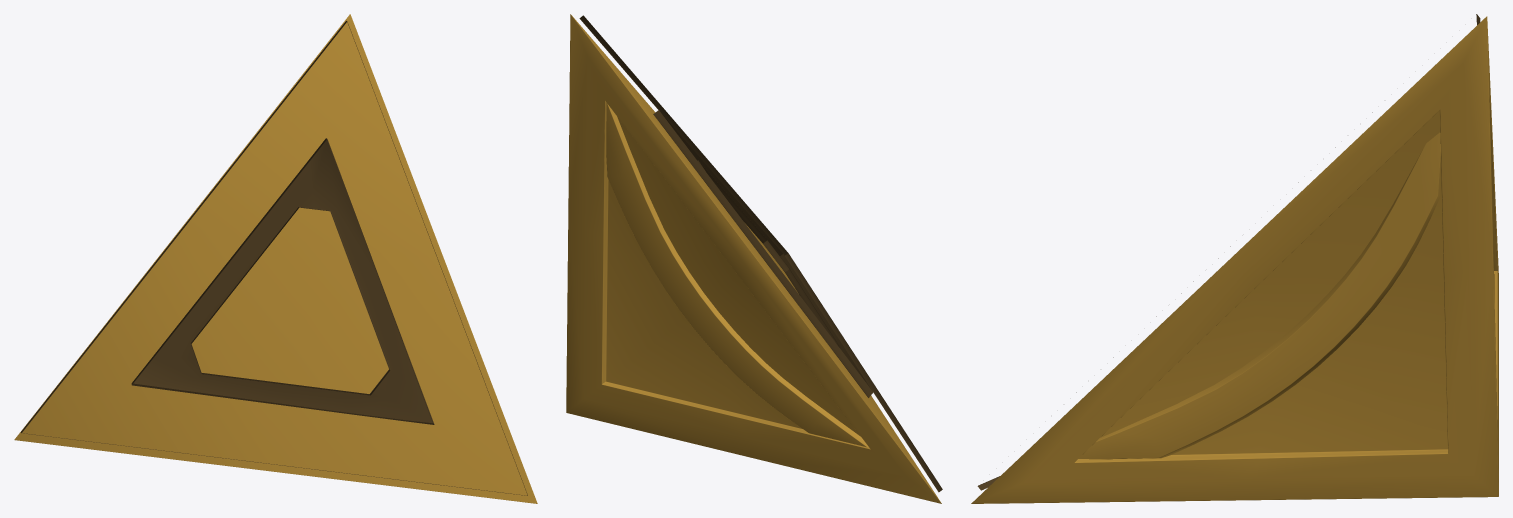
File: Holocron_Esquina_InfDerTra.obj
The picture shows the model from 3 angles, left to right: view 1: azimuth 30°, elevation 25°; view 2: azimuth 150°, elevation 25°; view 3: azimuth 270°, elevation 25°; orthographic projection. The views are drawn at different scales.
Visible parts, largest first — view 1: Holocron_Esquina_InfDerTra; view 2: Holocron_Esquina_InfDerTra; view 3: Holocron_Esquina_InfDerTra.
Boxes of the visible parts, bbox=[...] form: Holocron_Esquina_InfDerTra: bbox=[14, 14, 537, 503]; Holocron_Esquina_InfDerTra: bbox=[566, 14, 942, 503]; Holocron_Esquina_InfDerTra: bbox=[971, 14, 1498, 503].
Bounding box in the file's own units: 5.17 × 5.23 × 5.13.
